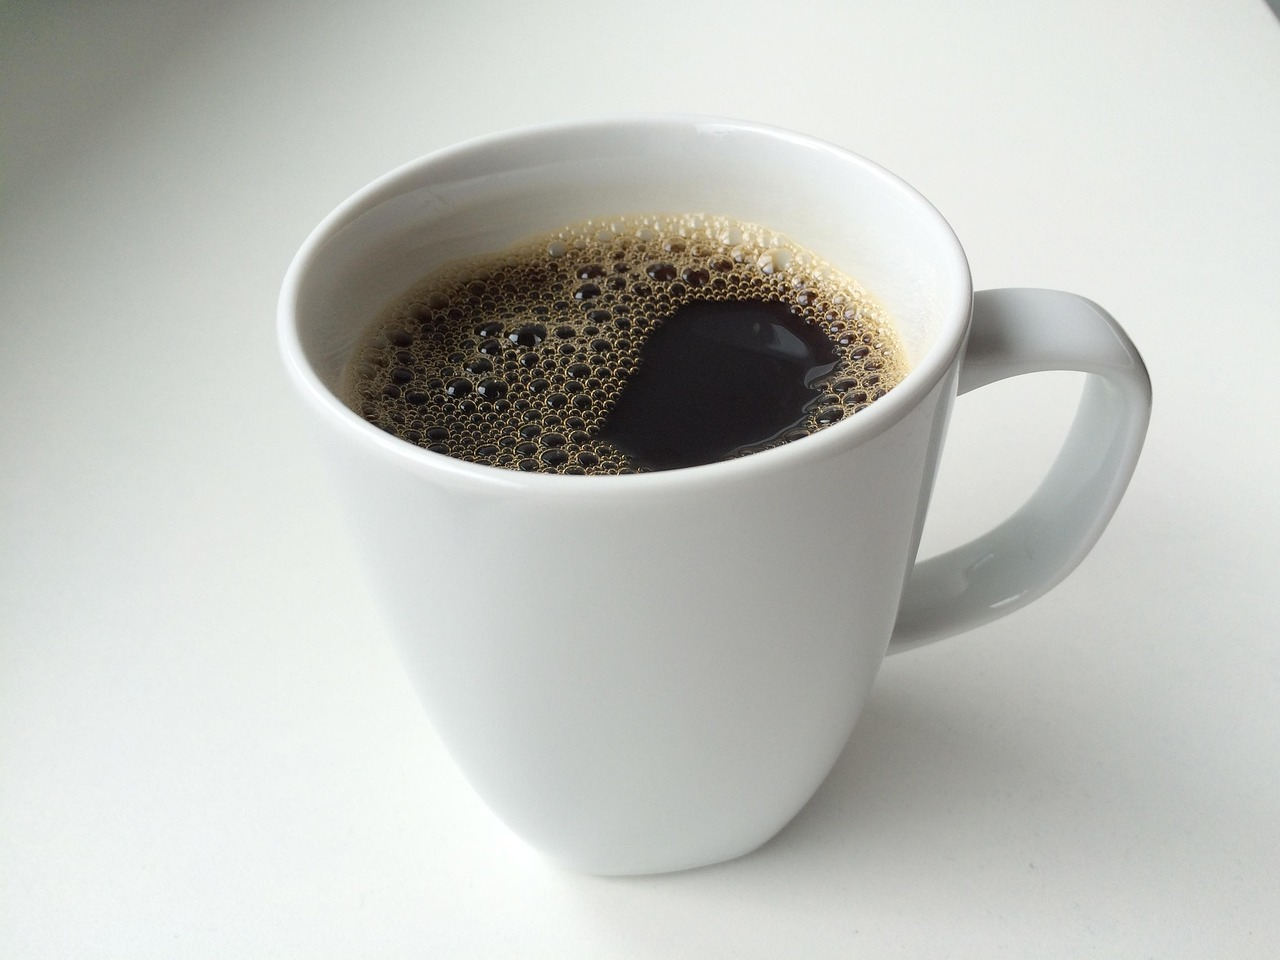mug: (257, 104, 1177, 896)
